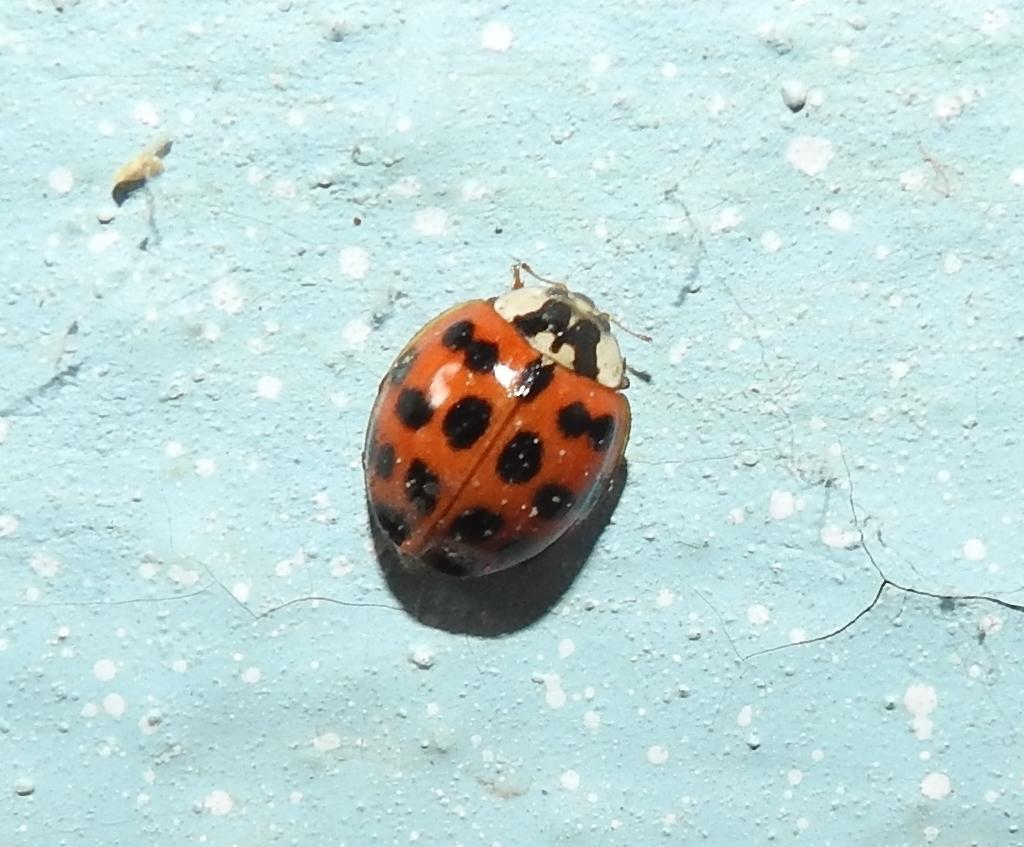ladybug: (366, 256, 659, 589)
